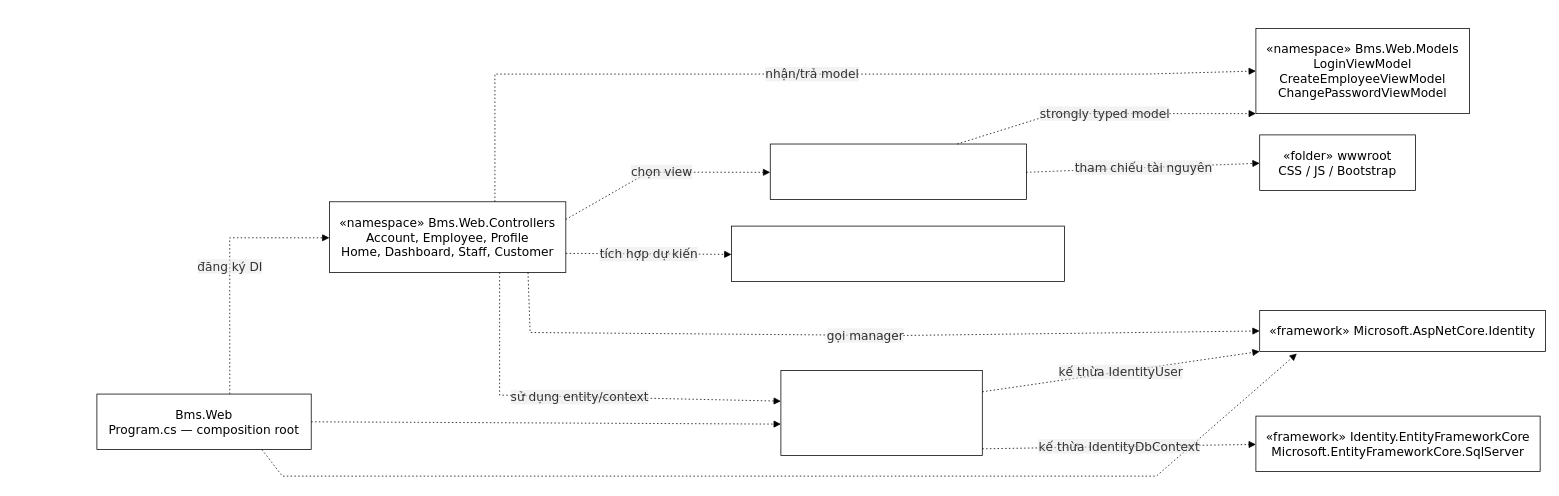
This 1559x496 diagram has some shape labels left out. The box of each missing label's shape, as (x1, y1, x2, y2) in pixels:
«folder» Views Account / Employee / Profile / Shared: (770, 143, 1026, 200)
«namespace» Bms.Web.Data ApplicationUser ApplicationDbContext DbInitializer: (780, 370, 982, 456)
«proposed namespace» Bms.Web.Integrations.VNPay: (731, 225, 1064, 282)
